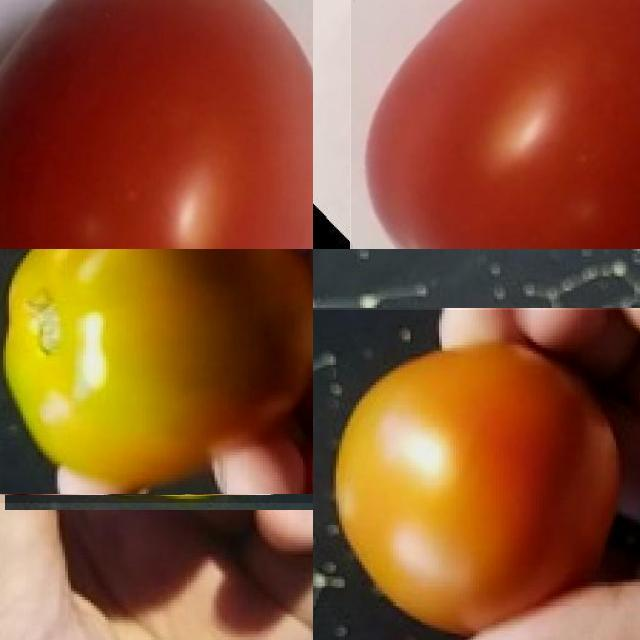Fresh Tomato: (313, 309, 640, 640), (0, 249, 313, 502), (0, 0, 313, 249), (351, 0, 640, 249)
